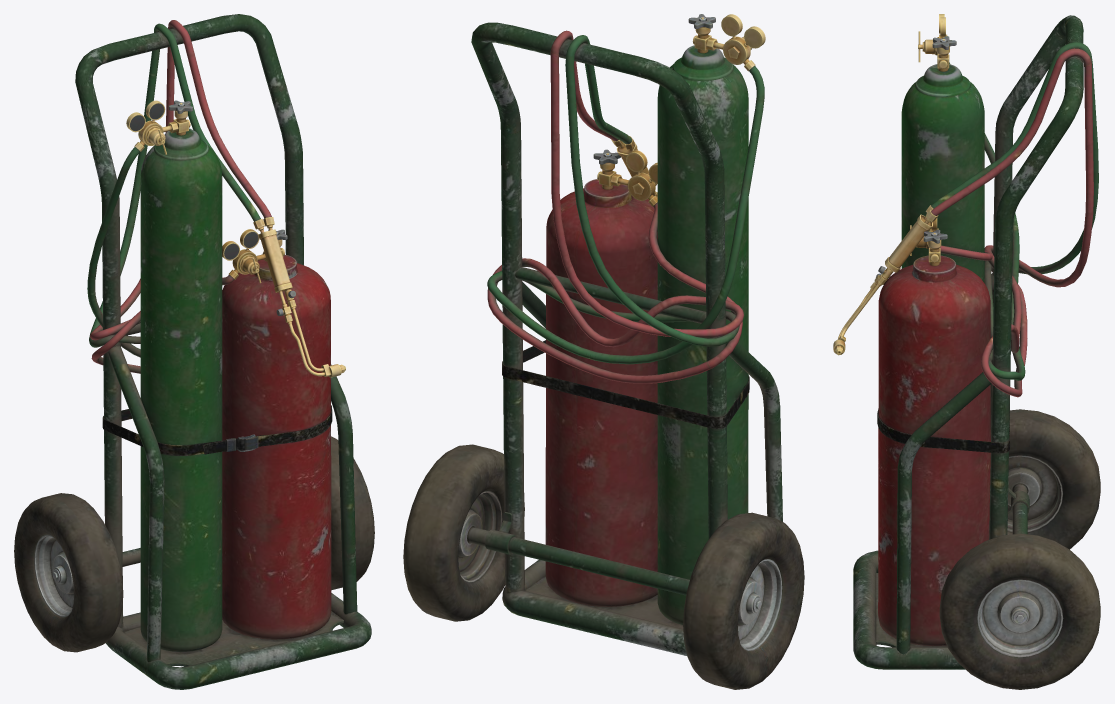
File: portable_welding_cart_1k.glb
3 renders of one model, left to right at view 1: azimuth 30°, elevation 25°; view 2: azimuth 150°, elevation 25°; view 3: azimuth 270°, elevation 25°, orthographic. The views are drawn at different scales.
Parts seen in each view (by area): view 1: portable_welding_cart; view 2: portable_welding_cart; view 3: portable_welding_cart.
Part boxes in pixels (x1,y1,x2,y2): portable_welding_cart: (14, 14, 374, 689); portable_welding_cart: (403, 14, 804, 689); portable_welding_cart: (833, 14, 1100, 689).
Bounding box in the file's own units: 0.8384 × 1.56 × 0.655.
2 materials, 2 textured.
